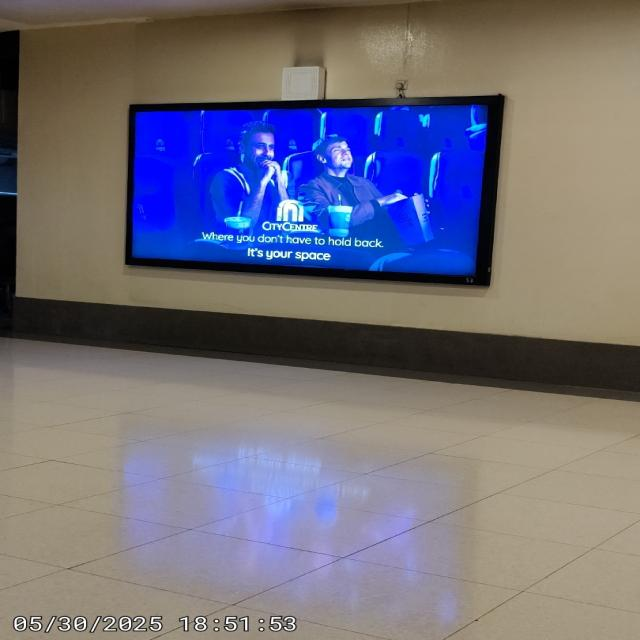digital-board-medium: (122, 96, 504, 290)
